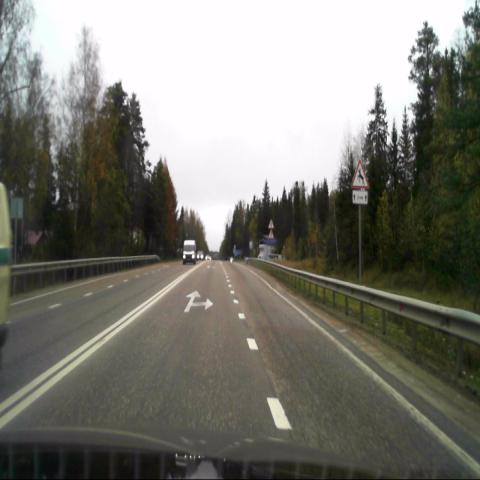1_27: (350, 160, 368, 189)
8_2_1: (351, 190, 368, 203)
